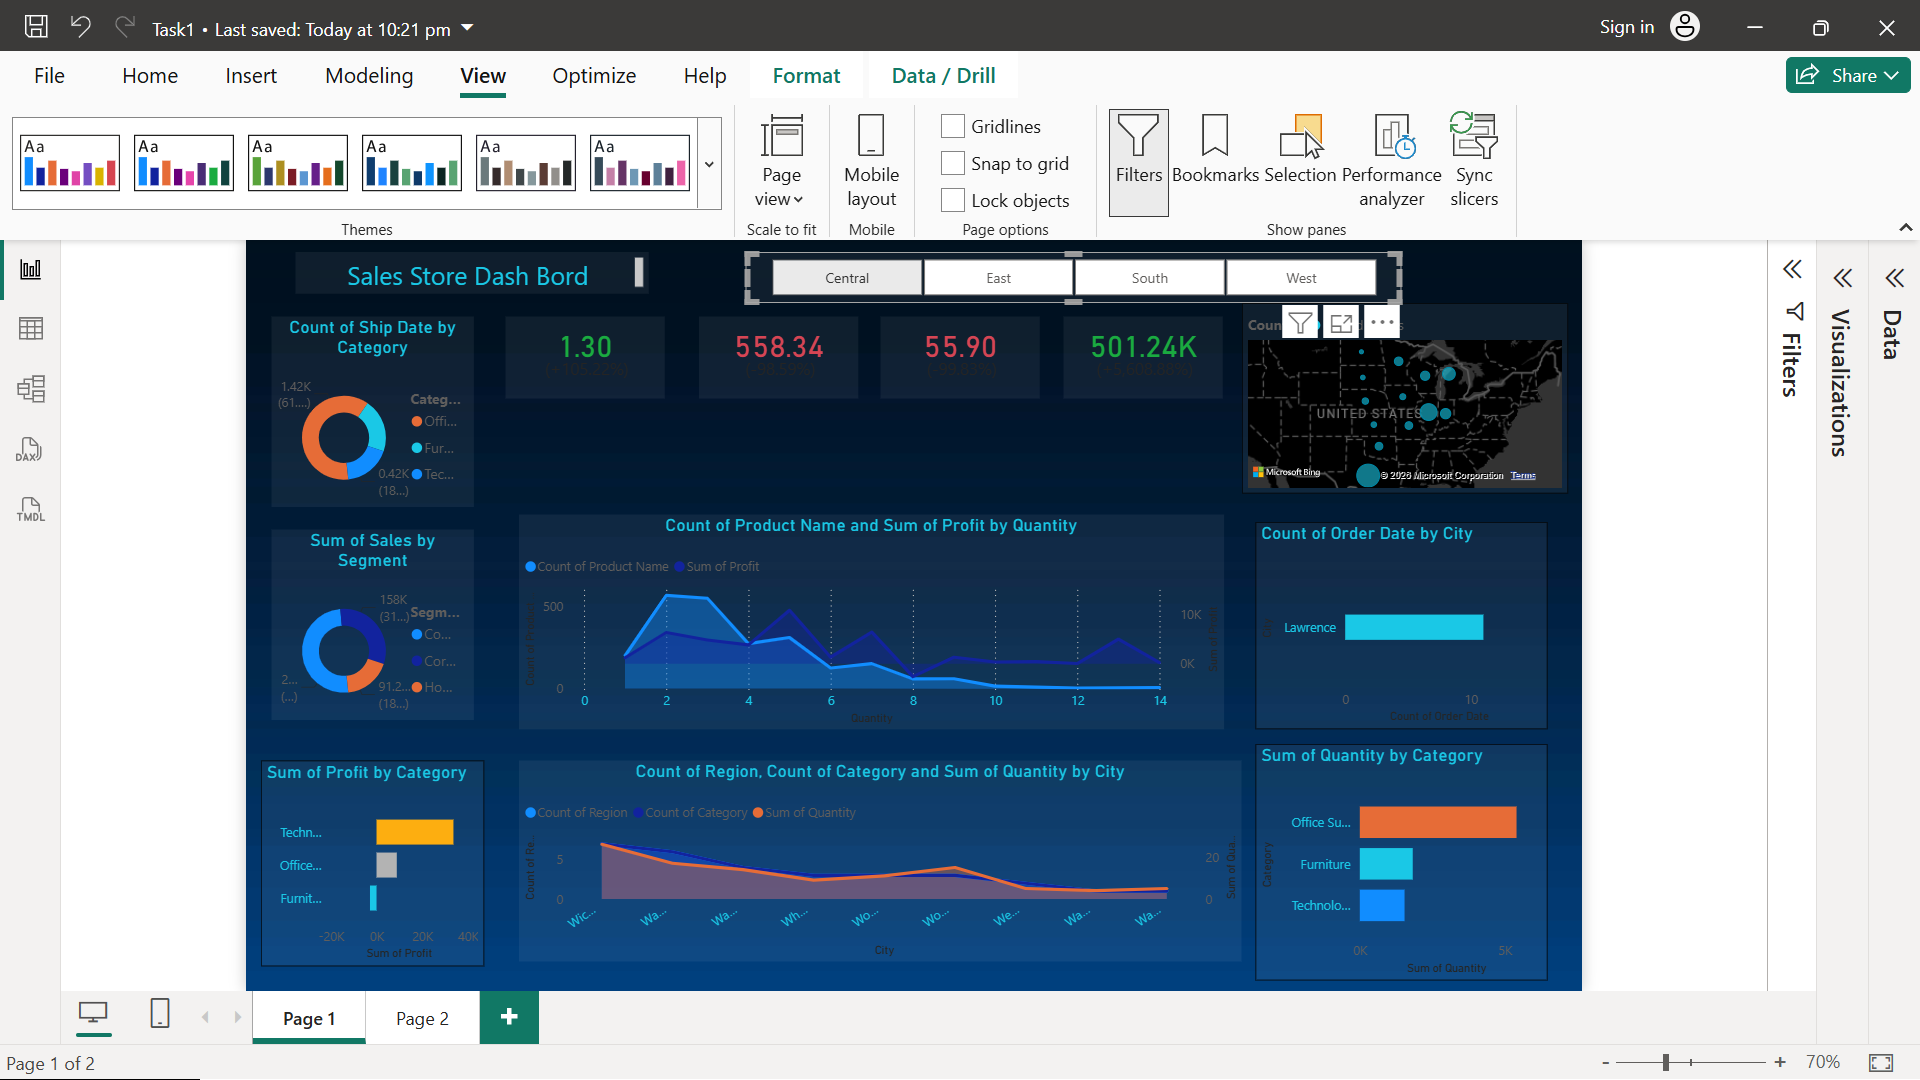

The dashboard page shown, as its layout file describes it:
{"tool":"powerbi","page":{"name":"Page 1","canvas":[1280,720],"ordinal":0},"visuals":[{"type":"clusteredBarChart","fields":{"Category":["Sample - Superstore.Category"],"Y":["Sum(Sample - Superstore.Quantity)"]},"box":[967.1,482.9,279.7,226.8],"z":0},{"type":"clusteredBarChart","fields":{"Category":["Sample - Superstore.City"],"Y":["CountNonNull(Sample - Superstore.Order Date)"]},"box":[967.1,270,279.7,198.4],"z":1000},{"type":"clusteredBarChart","fields":{"Y":["Sum(Sample - Superstore.Profit)"],"Category":["Sample - Superstore.Category"]},"box":[14.3,498.6,214.3,197.1],"z":2000},{"type":"areaChart","fields":{"Y":["CountNonNull(Sample - Superstore.Product Name)"],"Category":["Sample - Superstore.Quantity"],"Y2":["Sum(Sample - Superstore.Profit)"]},"box":[261.4,262.9,675.7,205.7],"z":3000},{"type":"areaChart","fields":{"Y":["CountNonNull(Sample - Superstore.Region)","CountNonNull(Sample - Superstore.Category)"],"Category":["Sample - Superstore.City"],"Y2":["Sum(Sample - Superstore.Quantity)"]},"box":[261.4,498.6,692.9,192.9],"z":4000},{"type":"map","fields":{"Category":["Sample - Superstore.State"],"Series":["Sample - Superstore.Country"],"Size":["CountNonNull(Sample - Superstore.Region)"]},"box":[954.3,60,312.9,182.9],"z":5000},{"type":"donutChart","fields":{"Y":["Sum(Sample - Superstore.Sales)"],"Category":["Sample - Superstore.Segment"]},"box":[24.3,277.1,194.3,182.9],"z":6000},{"type":"donutChart","fields":{"Y":["CountNonNull(Sample - Superstore.Ship Date)"],"Category":["Sample - Superstore.Category"]},"box":[24.3,72.9,194.3,182.9],"z":7000},{"type":"slicer","fields":{"Values":["Sample - Superstore.Region"]},"box":[478.6,11.4,628.6,48.6],"z":8000},{"type":"textbox","box":[47.1,11.4,338.6,40],"z":9000},{"type":"kpi","fields":{"Indicator":["Sum(Sample - Superstore.Discount)"],"Goal":["Sum(Sample - Superstore.Profit)"],"TrendLine":["Sample - Superstore.City"]},"box":[248.6,72.9,152.9,78.6],"z":10000},{"type":"kpi","fields":{"Indicator":["Sum(Sample - Superstore.Discount)"],"Goal":["Sum(Sample - Superstore.Profit)"],"TrendLine":["Sample - Superstore.Category"]},"box":[608.6,72.9,152.9,78.6],"z":11000},{"type":"kpi","fields":{"Indicator":["Sum(Sample - Superstore.Discount)"],"Goal":["Sum(Sample - Superstore.Profit)"],"TrendLine":["Sample - Superstore.Region"]},"box":[434.3,72.9,152.9,78.6],"z":12000},{"type":"kpi","fields":{"Indicator":["Sum(Sample - Superstore.Sales)"],"Goal":["Sum(Sample - Superstore.Quantity)"],"TrendLine":["Sample - Superstore.Region"]},"box":[784.3,72.9,152.9,78.6],"z":13000}]}

Visuals, with their boxes on the page's 1280x720 design canvas (x1, y1, x2, y2). These are canvas units, not pixel positions in the 1920x1080 screenshot, which may show the page scaled, cropped or inside an application window:
clusteredBarChart - Sample - Superstore.Category x Sum(Sample - Superstore.Quantity): <bbox>967, 483, 1247, 710</bbox>
clusteredBarChart - Sample - Superstore.City x CountNonNull(Sample - Superstore.Order Date): <bbox>967, 270, 1247, 468</bbox>
clusteredBarChart - Sum(Sample - Superstore.Profit) x Sample - Superstore.Category: <bbox>14, 499, 229, 696</bbox>
areaChart - CountNonNull(Sample - Superstore.Product Name) x Sample - Superstore.Quantity: <bbox>261, 263, 937, 469</bbox>
areaChart - CountNonNull(Sample - Superstore.Region) x CountNonNull(Sample - Superstore.Category): <bbox>261, 499, 954, 692</bbox>
map - Sample - Superstore.State x Sample - Superstore.Country: <bbox>954, 60, 1267, 243</bbox>
donutChart - Sum(Sample - Superstore.Sales) x Sample - Superstore.Segment: <bbox>24, 277, 219, 460</bbox>
donutChart - CountNonNull(Sample - Superstore.Ship Date) x Sample - Superstore.Category: <bbox>24, 73, 219, 256</bbox>
slicer - Sample - Superstore.Region: <bbox>479, 11, 1107, 60</bbox>
textbox: <bbox>47, 11, 386, 51</bbox>
kpi - Sum(Sample - Superstore.Discount) x Sum(Sample - Superstore.Profit): <bbox>249, 73, 402, 152</bbox>
kpi - Sum(Sample - Superstore.Discount) x Sum(Sample - Superstore.Profit): <bbox>609, 73, 762, 152</bbox>
kpi - Sum(Sample - Superstore.Discount) x Sum(Sample - Superstore.Profit): <bbox>434, 73, 587, 152</bbox>
kpi - Sum(Sample - Superstore.Sales) x Sum(Sample - Superstore.Quantity): <bbox>784, 73, 937, 152</bbox>
